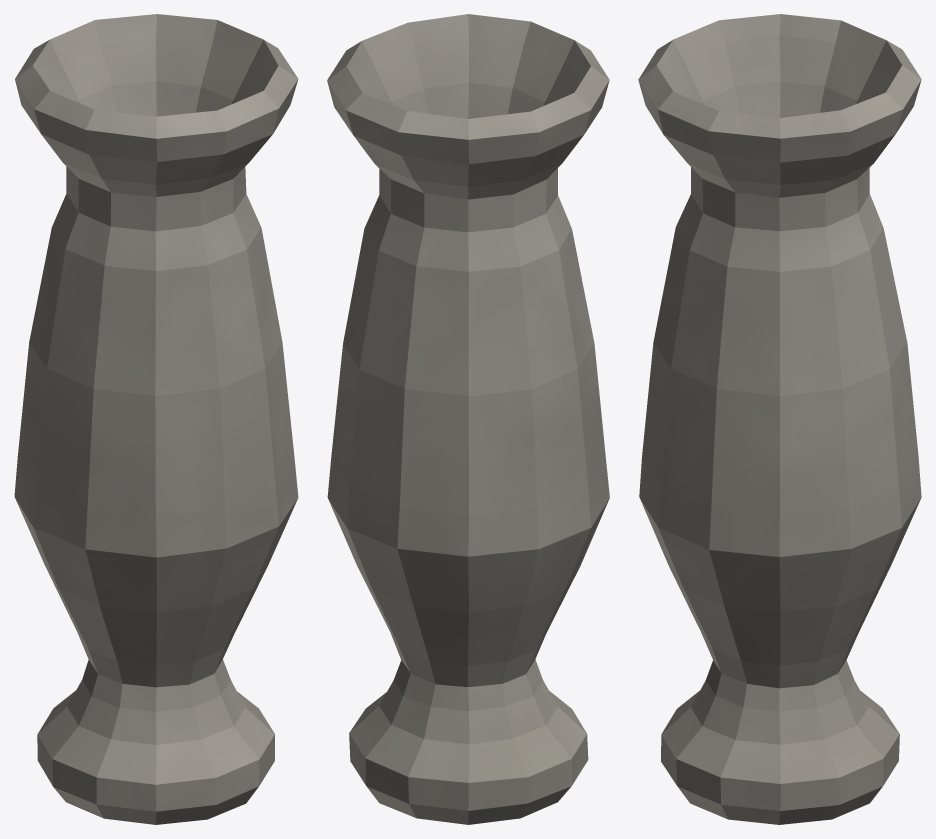
The model's file is vase_stone_01.glb.
3 renders of one model, left to right at view 1: azimuth 30°, elevation 25°; view 2: azimuth 150°, elevation 25°; view 3: azimuth 270°, elevation 25°, orthographic.
Visible parts, largest first — view 1: vase_stone_01; view 2: vase_stone_01; view 3: vase_stone_01.
Part boxes in pixels (box(x1,y1,x2,y2)): vase_stone_01: box(14, 14, 298, 824); vase_stone_01: box(327, 14, 609, 824); vase_stone_01: box(638, 14, 921, 824).
Size of the model in its own units: 0.3802 by 1.06 by 0.3805.
1 material, 1 textured.
